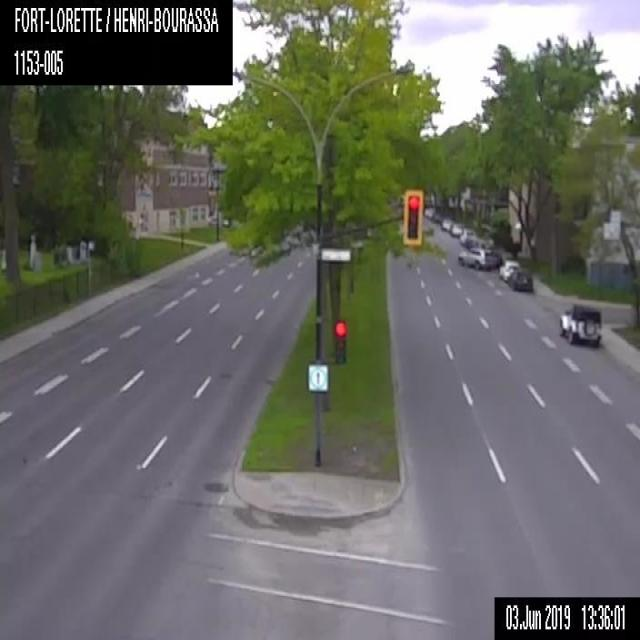vehicle: (559, 303, 602, 347), (458, 245, 496, 269), (506, 270, 532, 290), (499, 258, 519, 282), (459, 228, 476, 244), (450, 222, 463, 235), (442, 218, 452, 230)
